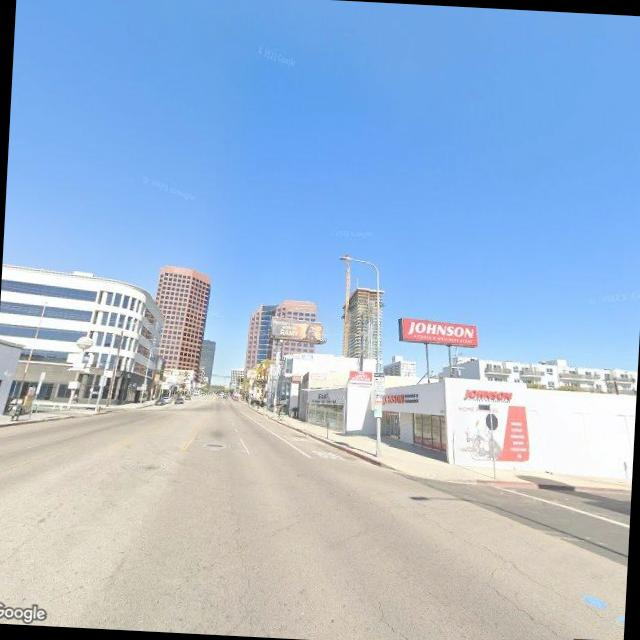pothole: (410, 511, 608, 626), (480, 578, 568, 640), (369, 598, 437, 640)
